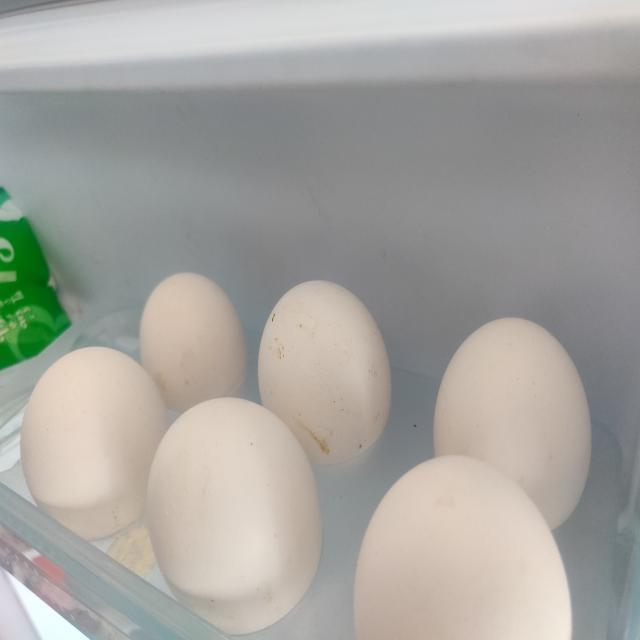Egg: (142, 398, 324, 637), (353, 454, 574, 640), (432, 318, 592, 531), (19, 346, 179, 547), (255, 281, 393, 462), (138, 272, 251, 417)
